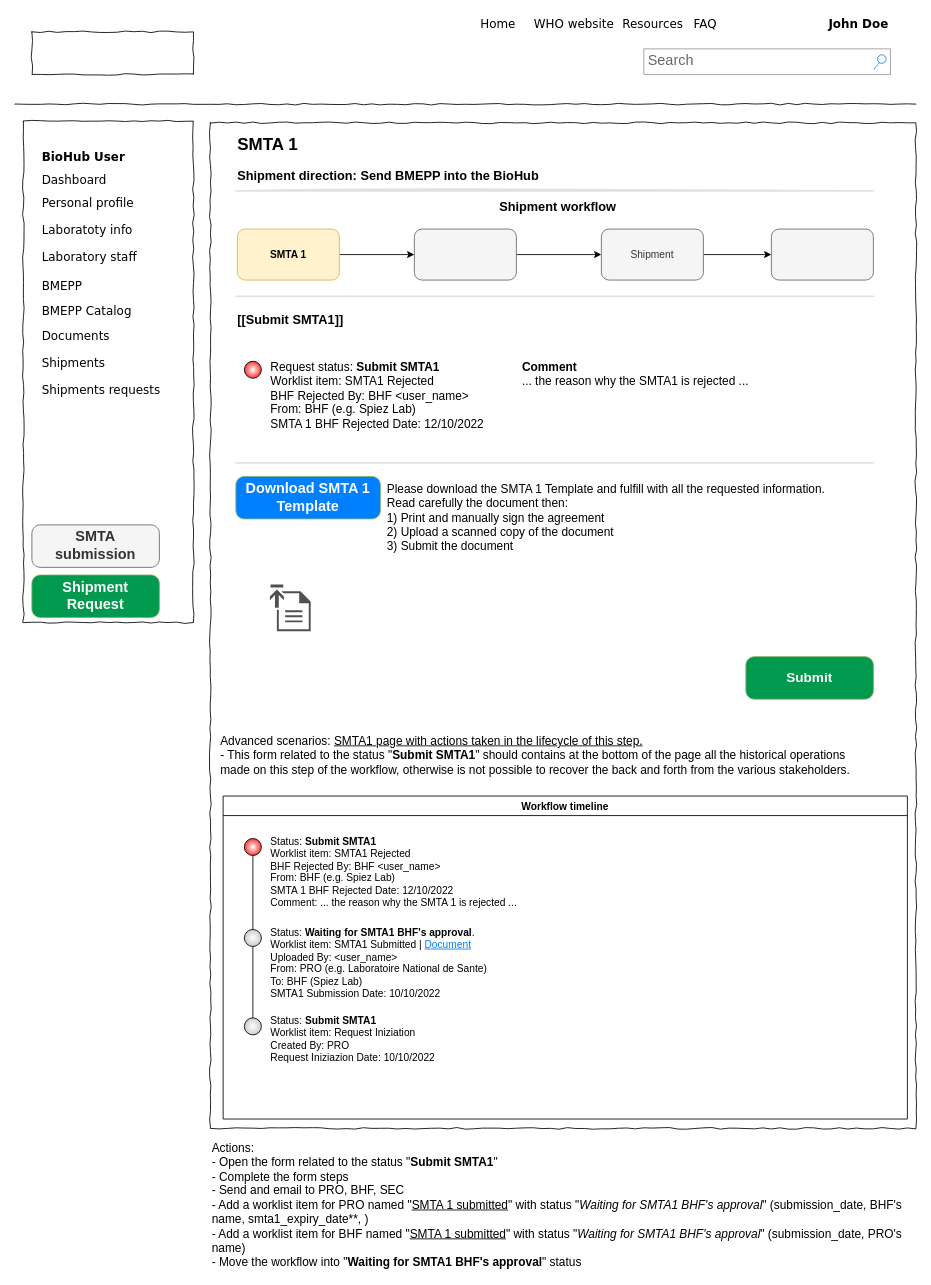
This 931x1285 diagram has some shape labels left out. Here are the shapes that lost their labels. From the top down, the centre of each, then its label:
(112,52): LOGO
(465,254): Pre-Shipment
(822,254): Post-Shipment
(289,607): Upload here the signed SMTA 1
